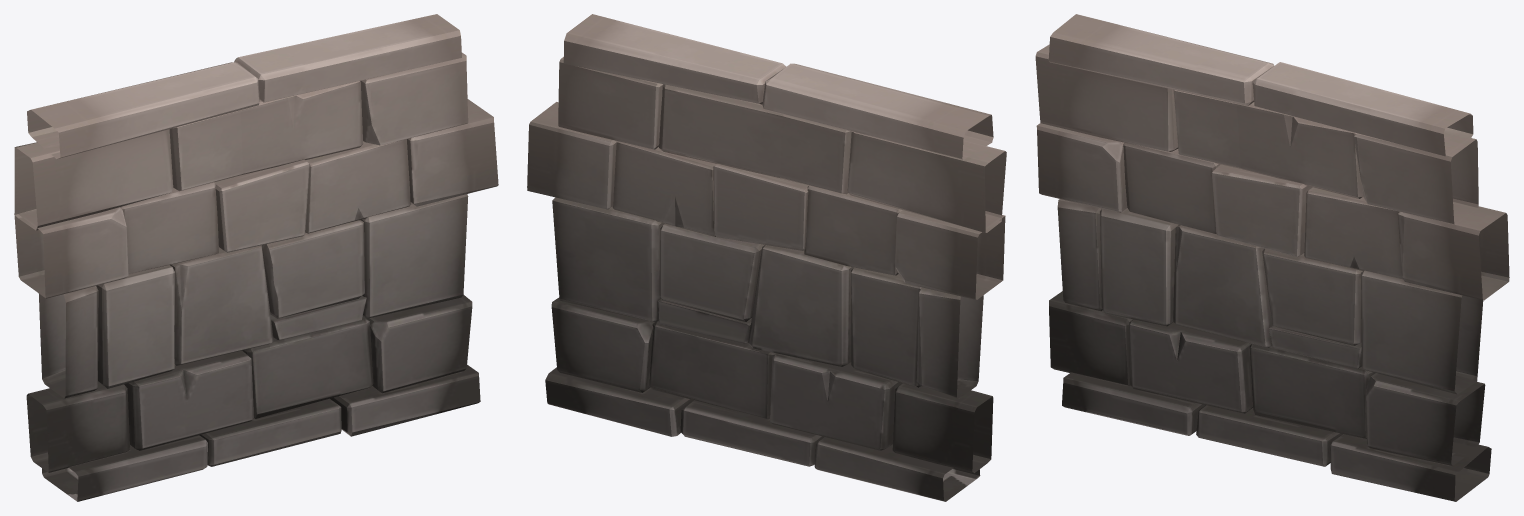
Rendered from wallTrial.glb.
3 views of the same model, side by side, from view 1: azimuth 30°, elevation 25°; view 2: azimuth 150°, elevation 25°; view 3: azimuth 330°, elevation 25° (orthographic).
Visible parts, largest first — view 1: Cube.003__0; view 2: Cube.003__0; view 3: Cube.003__0.
Part boxes in pixels (<box>): Cube.003__0: <box>14,14,498,501</box>; Cube.003__0: <box>527,14,1006,501</box>; Cube.003__0: <box>1035,14,1509,501</box>.
Size of the model in its own units: 2.46 by 1.93 by 0.3617.
1 material, 1 textured.
